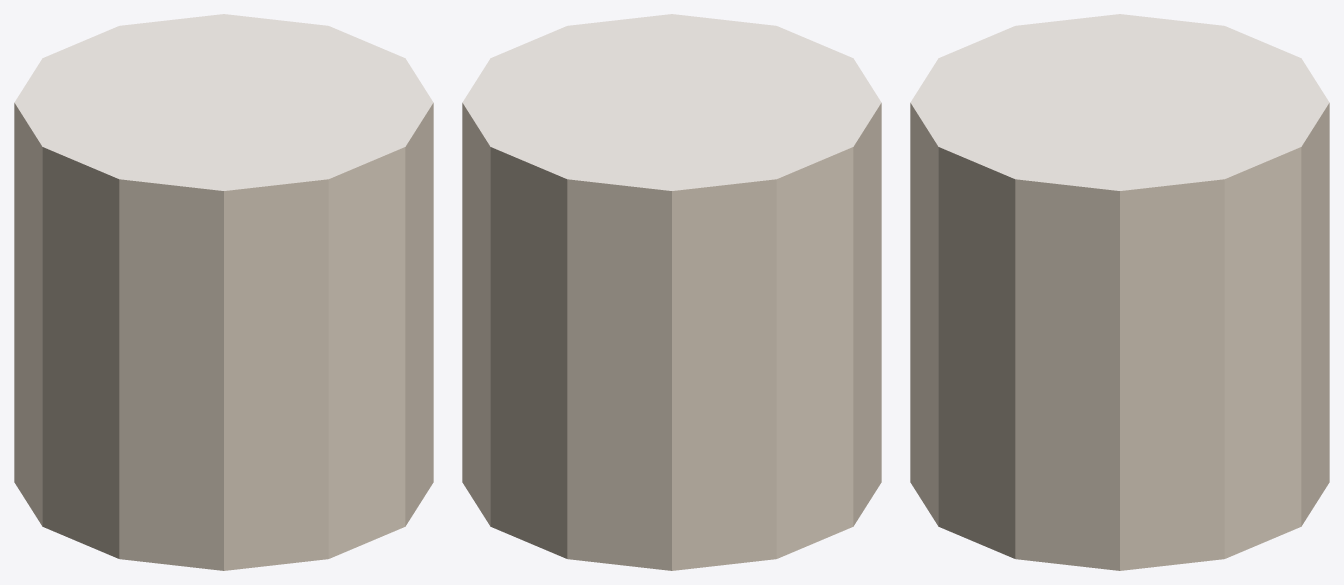
The model's file is Tower_Center_Pillar.glb.
3 views of the same model, side by side, from view 1: azimuth 30°, elevation 25°; view 2: azimuth 150°, elevation 25°; view 3: azimuth 270°, elevation 25° (orthographic).
Visible parts, largest first — view 1: Tower_Center_Pillar; view 2: Tower_Center_Pillar; view 3: Tower_Center_Pillar.
Part boxes in pixels (x1=…): Tower_Center_Pillar: x1=14, y1=14, x2=433, y2=570; Tower_Center_Pillar: x1=462, y1=14, x2=881, y2=570; Tower_Center_Pillar: x1=910, y1=14, x2=1329, y2=570.
Size of the model in its own units: 0.45 by 0.45 by 0.45.
